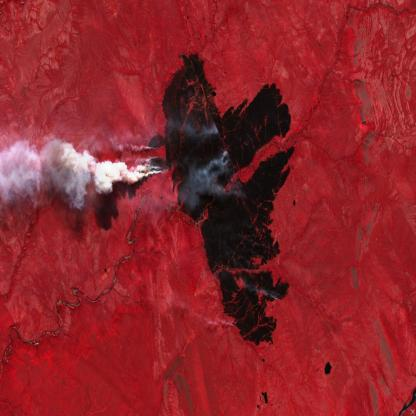fire: (139, 124, 172, 186)
